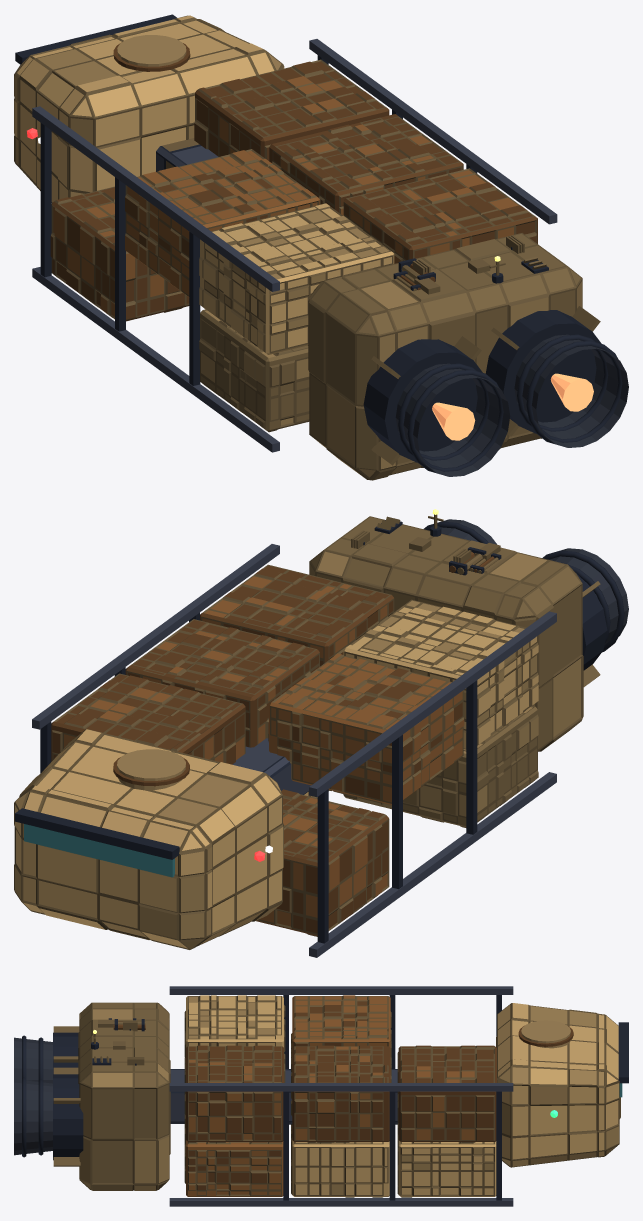
Rendered from mule.glb.
3 views of the same model, one above another, from view 1: azimuth 30°, elevation 25°; view 2: azimuth 150°, elevation 25°; view 3: azimuth 270°, elevation 25° (orthographic). The views are drawn at different scales.
Parts seen in each view (by area): view 1: mule_mesh; view 2: mule_mesh; view 3: mule_mesh.
Boxes of the visible parts, left/top/right/bottom form: mule_mesh: left=14, top=14, right=628, bottom=480; mule_mesh: left=14, top=509, right=628, bottom=957; mule_mesh: left=14, top=986, right=628, bottom=1206.
Bounding box in the file's own units: 5.76 × 3.87 × 15.03.
